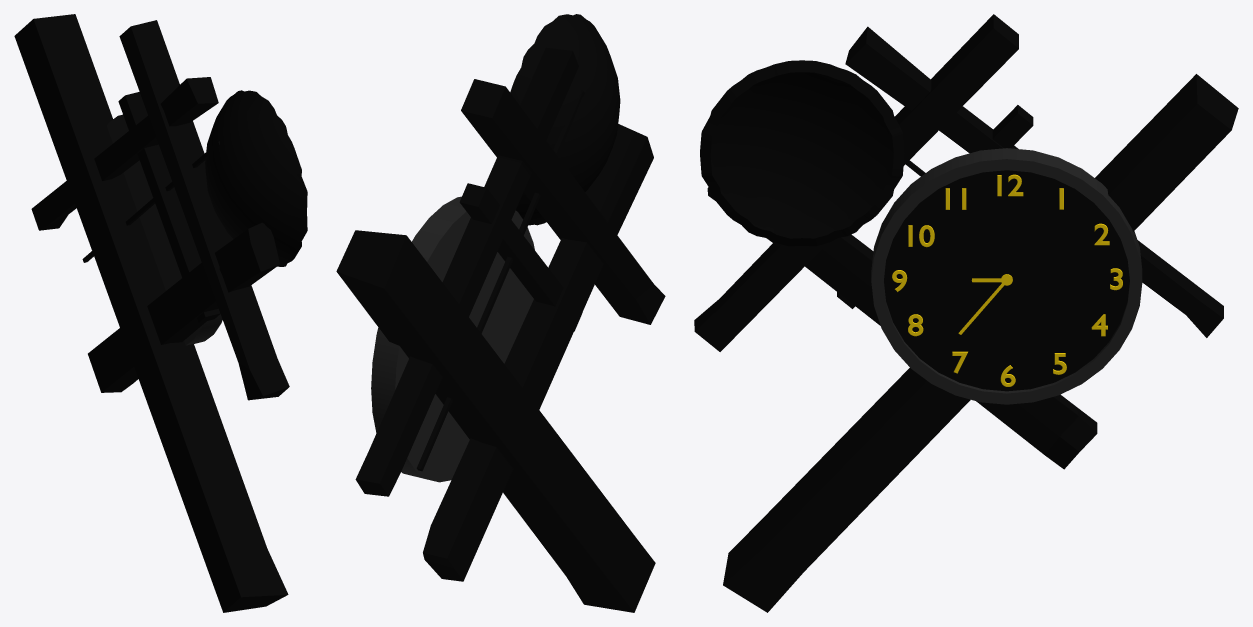
Rendered from fancy_zegarek_na_zapleczu_w_bibliotece.fbx.
The picture shows the model from 3 angles, left to right: view 1: azimuth 30°, elevation 25°; view 2: azimuth 150°, elevation 25°; view 3: azimuth 270°, elevation 25°; orthographic projection. The views are drawn at different scales.
Visible parts, largest first — view 1: Sphere; view 2: Sphere; view 3: Sphere.
Boxes of the visible parts, bbox=[...] form: Sphere: bbox=[14, 14, 307, 612]; Sphere: bbox=[336, 14, 665, 612]; Sphere: bbox=[694, 14, 1238, 612].
Bounding box in the file's own units: 61.3 × 519 × 442.
